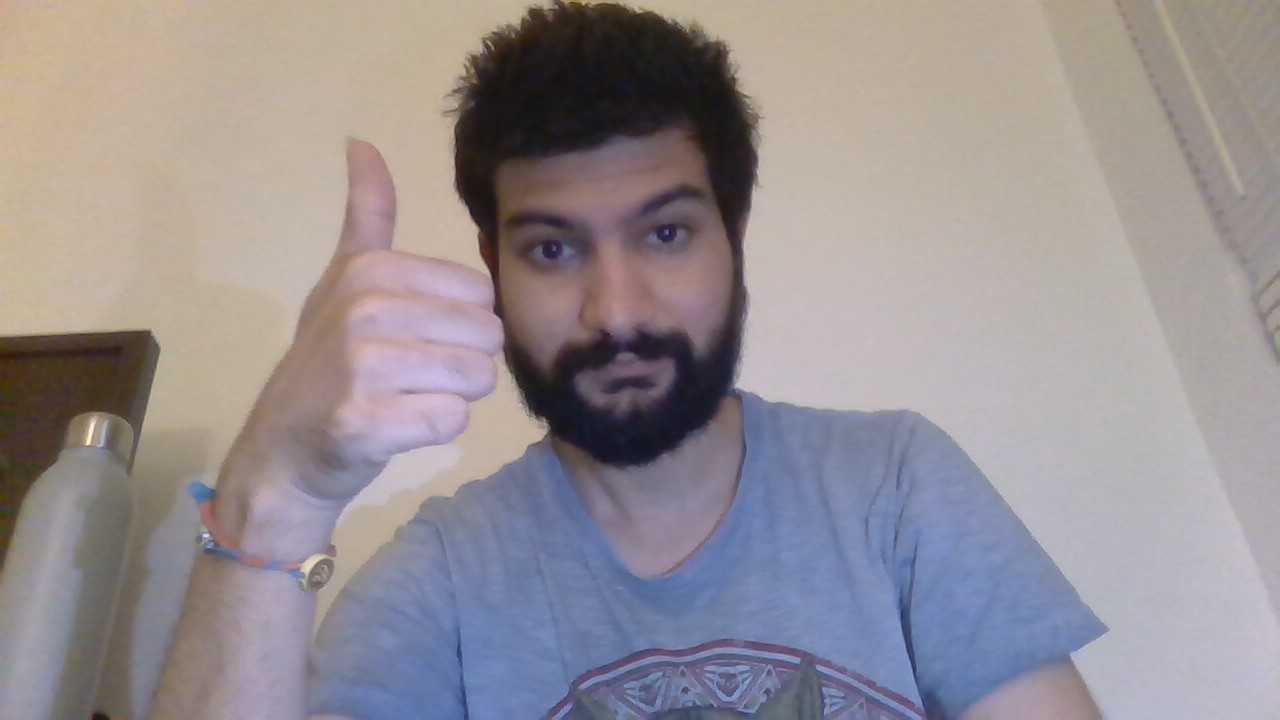up: (275, 128, 521, 465)
